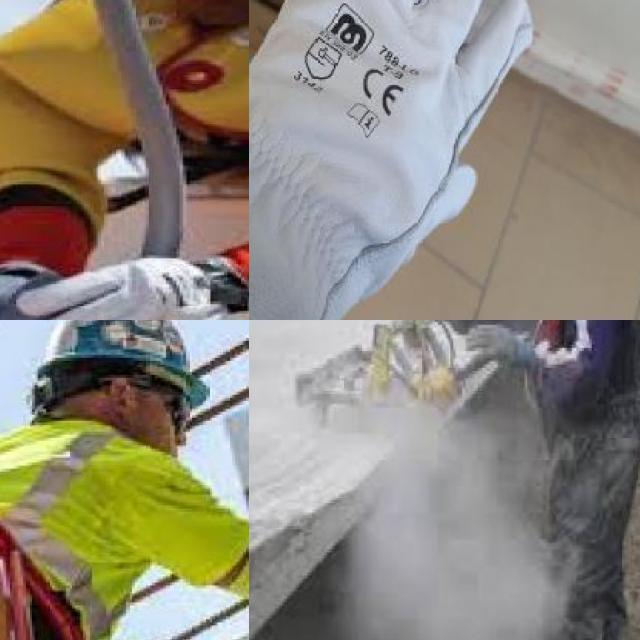apron: (249, 0, 583, 305), (15, 255, 249, 320), (467, 320, 533, 375)
